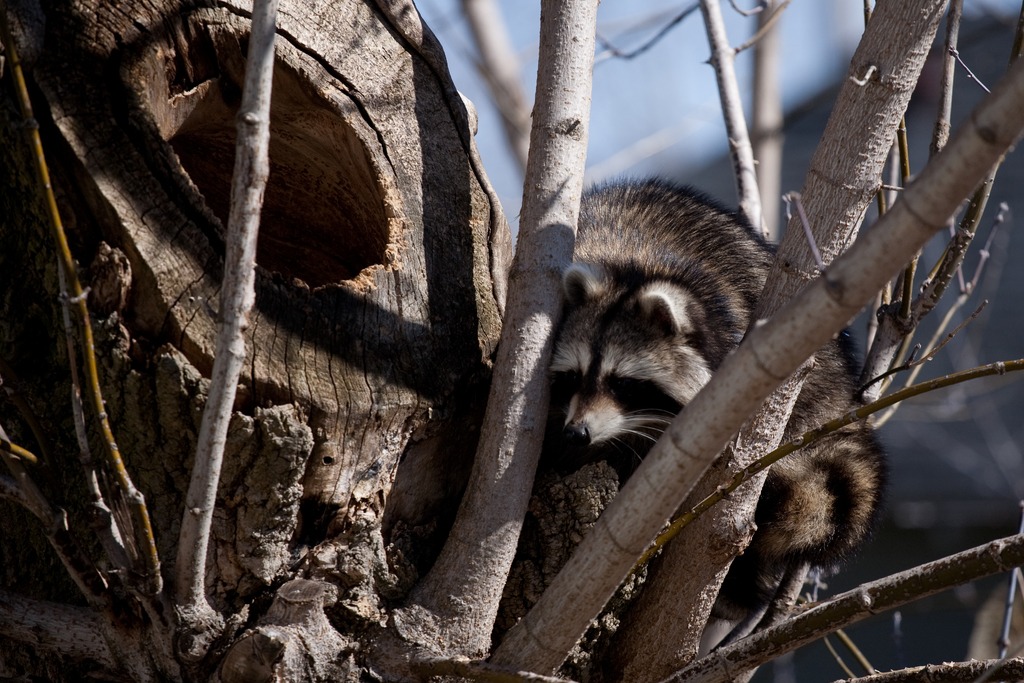raccoon: (552, 180, 890, 561)
